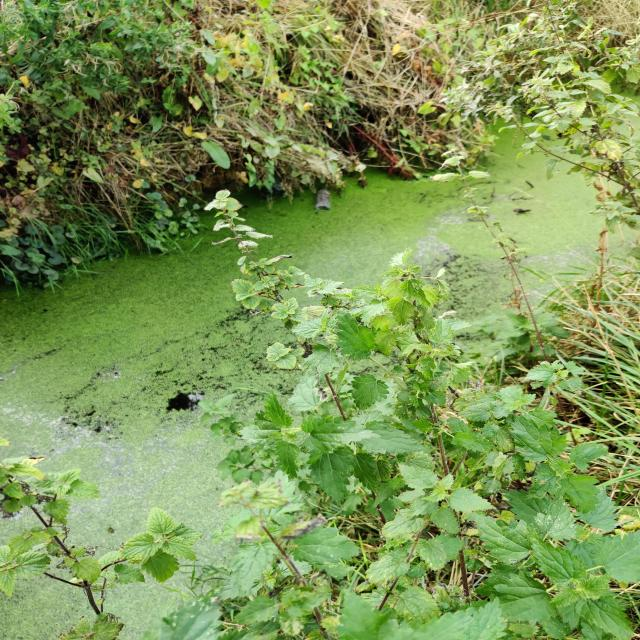litter: (315, 192, 339, 214)
